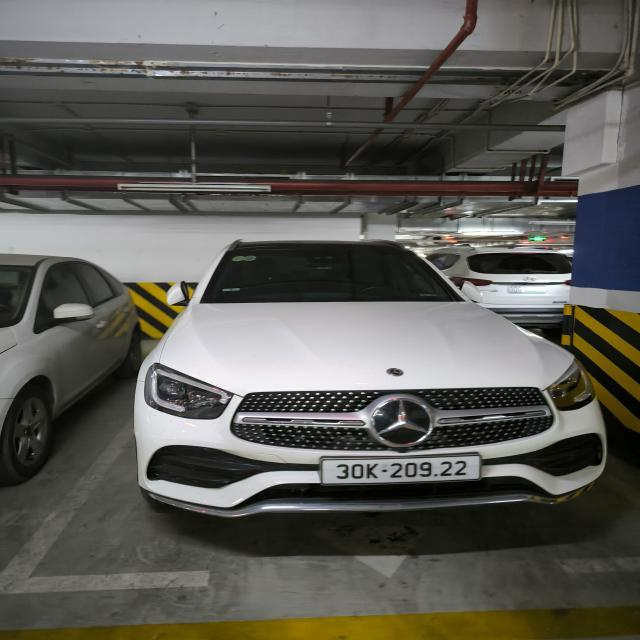license: (318, 452, 481, 485)
